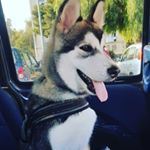puppy: (24, 1, 124, 150)
